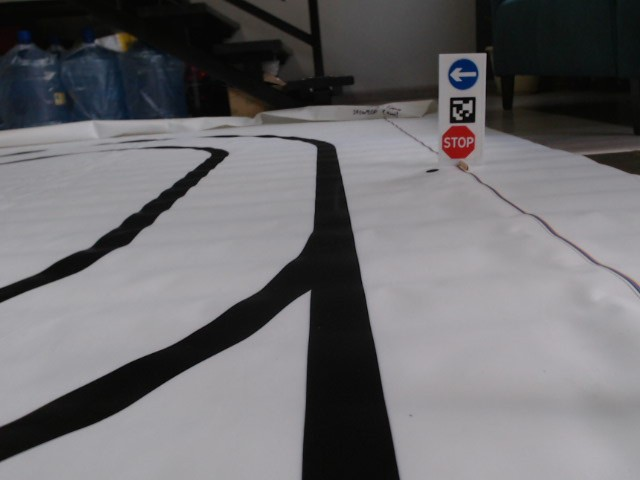Stop: (441, 123, 476, 158)
